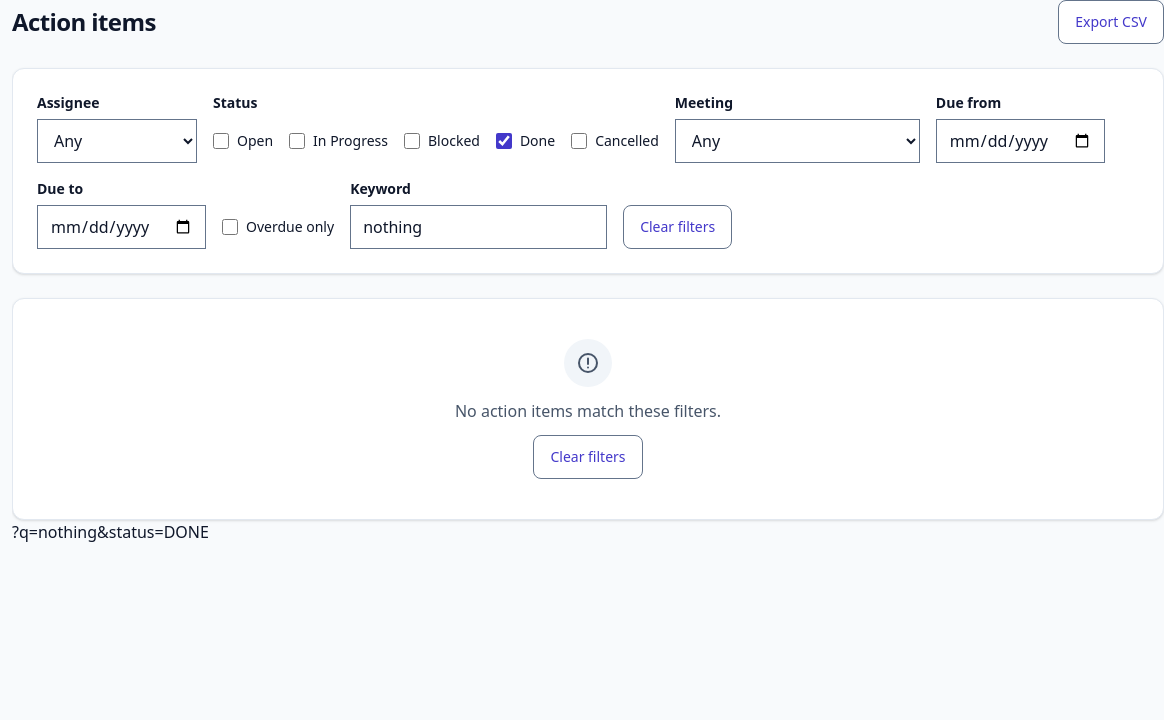
Action items FilterBar › shows an empty state whose Clear filters button resets the URL
Click the button "Clear filters" below "No action items match these filters.".
click(588, 457)  # box [533,435,642,479]
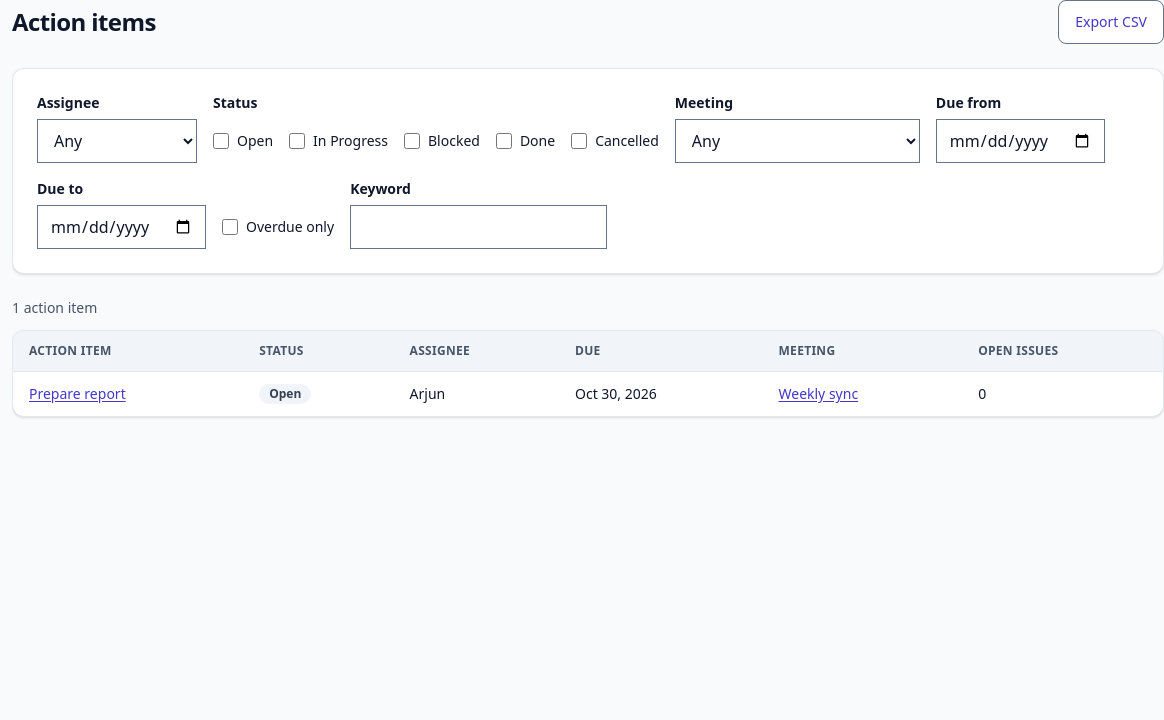
Check: the link "Prepare report" is shown, box [29,384,126,403]
